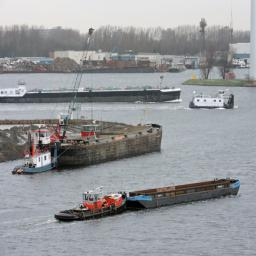tugboat: (54, 181, 129, 229), (12, 124, 60, 177), (188, 89, 238, 116)
